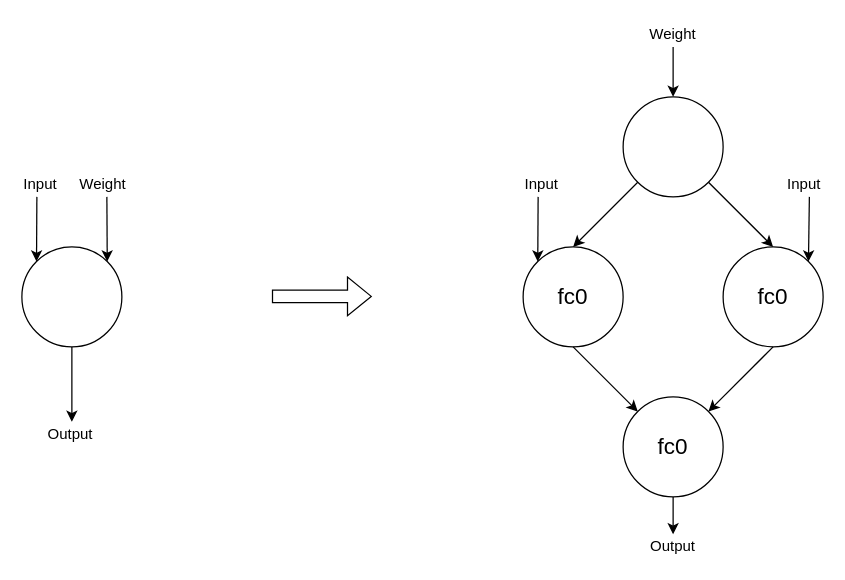
This 845x580 diagram has some shape labels left out. The centre of each missing label's shape, as x and y in pixels:
"fc" belongs at [71,296].
"split" belongs at [672,146].
